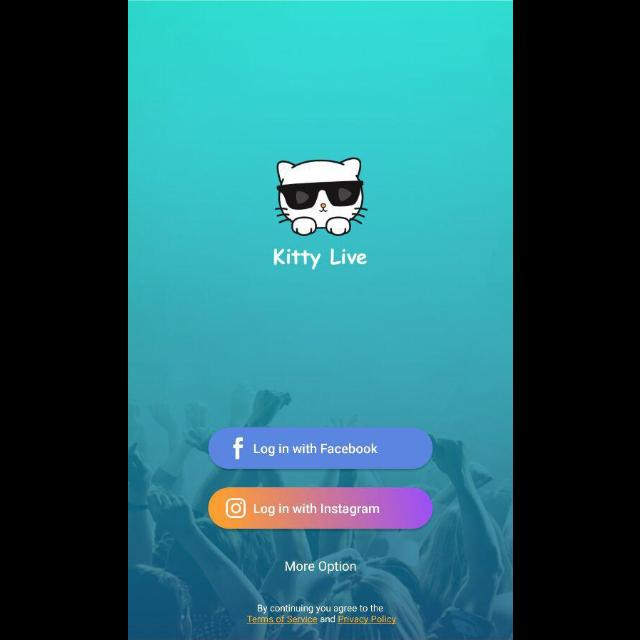backgroundimage: (128, 1, 512, 640)
image: (273, 158, 367, 236)
text: (246, 604, 396, 624), (273, 248, 367, 270), (284, 562, 356, 574)
textbutton: (208, 427, 432, 469), (208, 487, 432, 529)
